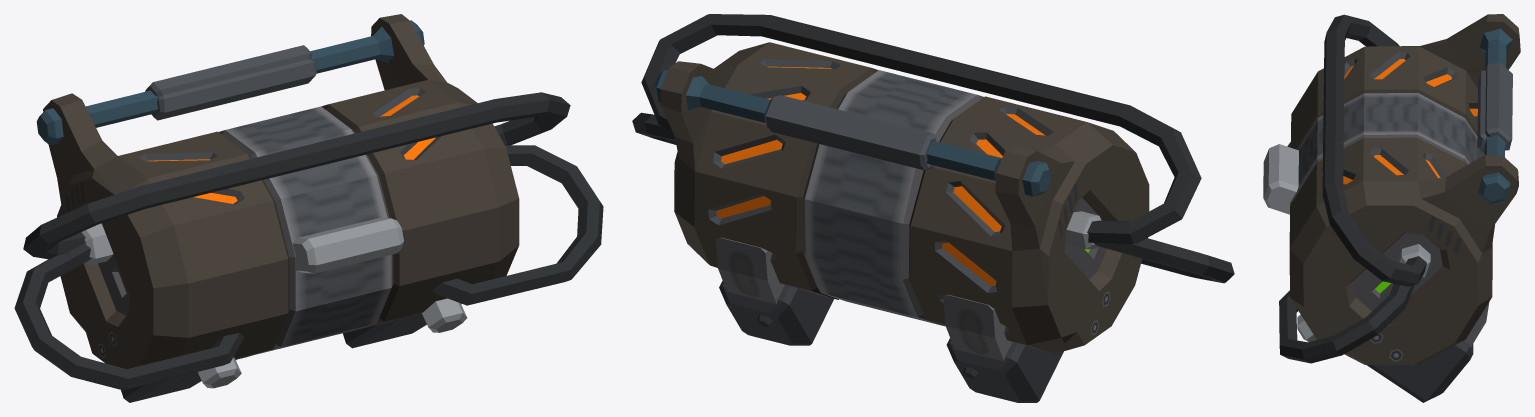
Rendered from SM_Mech_Back_01_Battery_03.fbx.
3 views of the same model, side by side, from view 1: azimuth 30°, elevation 25°; view 2: azimuth 150°, elevation 25°; view 3: azimuth 270°, elevation 25° (orthographic). The views are drawn at different scales.
Parts seen in each view (by area): view 1: SM_Mech_Back_01_Battery_03; view 2: SM_Mech_Back_01_Battery_03; view 3: SM_Mech_Back_01_Battery_03.
Boxes of the visible parts, left/top/right/bottom form: SM_Mech_Back_01_Battery_03: left=14, top=14, right=603, bottom=402; SM_Mech_Back_01_Battery_03: left=632, top=14, right=1234, bottom=402; SM_Mech_Back_01_Battery_03: left=1263, top=14, right=1520, bottom=402.
Bounding box in the file's own units: 140 × 66.39 × 60.91.
